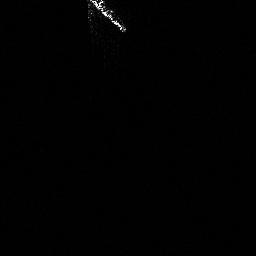ship: (88, 1, 126, 32)
